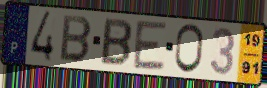3: (208, 26, 236, 78)
4: (28, 10, 56, 65)
B: (58, 13, 94, 65), (99, 16, 134, 69)
E: (132, 19, 169, 73)
O: (173, 22, 205, 76)
